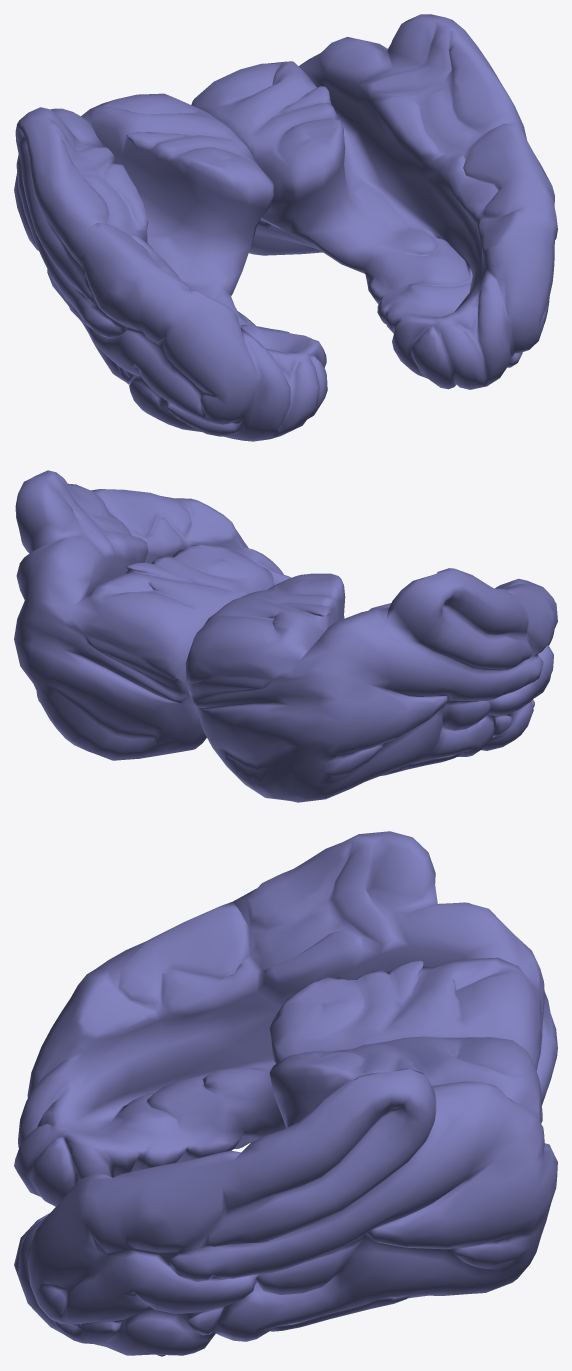
Rendered from Temporal_Lobe_Trans.gltf.
3 views of the same model, one above another, from view 1: azimuth 30°, elevation 25°; view 2: azimuth 150°, elevation 25°; view 3: azimuth 270°, elevation 25° (orthographic). The views are drawn at different scales.
Visible parts, largest first — view 1: Temporal_Lobe_Left, Temporal_Lobe_Right; view 2: Temporal_Lobe_Right, Temporal_Lobe_Left; view 3: Temporal_Lobe_Left, Temporal_Lobe_Right.
Boxes of the visible parts, x1=… form: Temporal_Lobe_Left: x1=191, y1=14, x2=557, y2=389; Temporal_Lobe_Right: x1=14, y1=93, x2=327, y2=441; Temporal_Lobe_Right: x1=185, y1=568, x2=557, y2=802; Temporal_Lobe_Left: x1=14, y1=470, x2=291, y2=760; Temporal_Lobe_Left: x1=14, y1=1036, x2=557, y2=1356; Temporal_Lobe_Right: x1=14, y1=831, x2=557, y2=1206.
Size of the model in its own units: 12.74 by 6.69 by 10.52.
